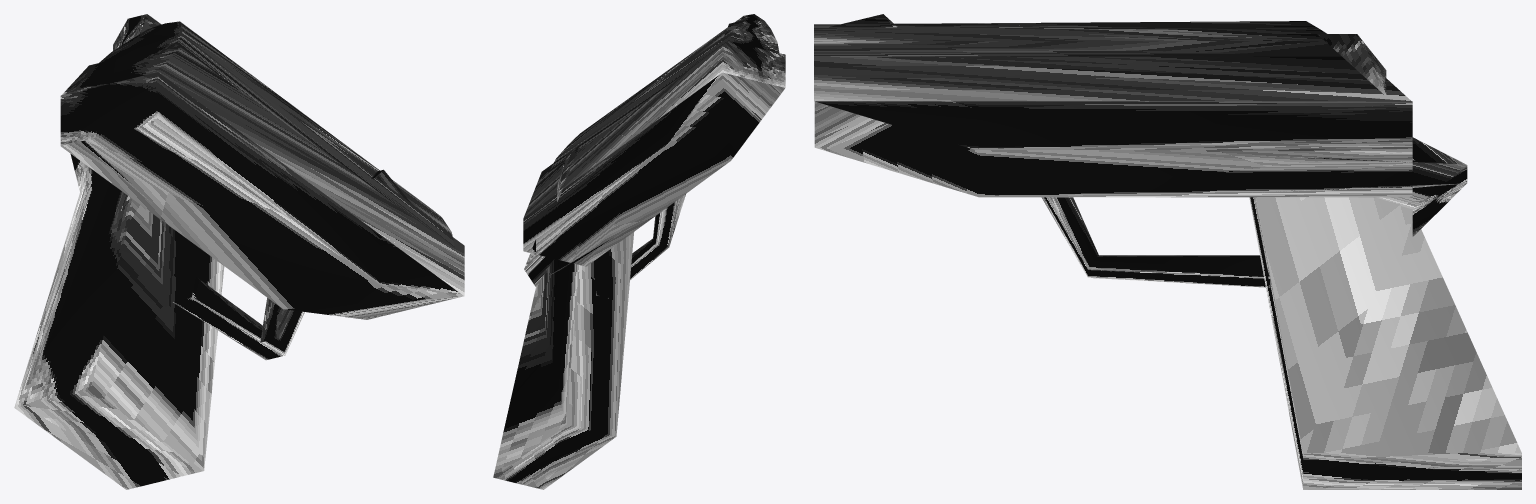
File: gun_handless.glb
3 views of the same model, side by side, from view 1: azimuth 30°, elevation 25°; view 2: azimuth 150°, elevation 25°; view 3: azimuth 270°, elevation 25° (orthographic). The views are drawn at different scales.
Parts seen in each view (by area): view 1: m4EnvMappingTexScaleS0.062501TexScaleT0.062501; view 2: m4EnvMappingTexScaleS0.062501TexScaleT0.062501; view 3: m4EnvMappingTexScaleS0.062501TexScaleT0.062501.
Part boxes in pixels (bbox=[...]): m4EnvMappingTexScaleS0.062501TexScaleT0.062501: bbox=[14, 14, 464, 489]; m4EnvMappingTexScaleS0.062501TexScaleT0.062501: bbox=[493, 14, 785, 489]; m4EnvMappingTexScaleS0.062501TexScaleT0.062501: bbox=[814, 14, 1521, 489].
Bounding box in the file's own units: 30 × 138 × 194.
Materials: 1 (1 with a texture image).
